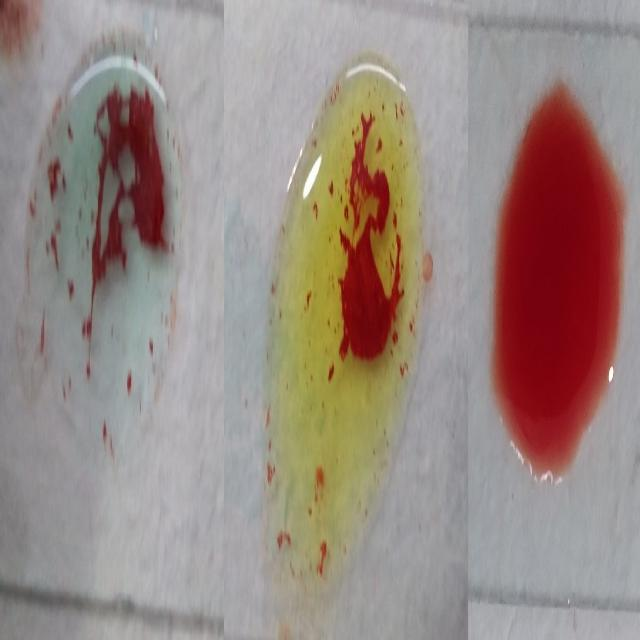A: (26, 24, 183, 471)
B: (267, 48, 418, 587)
